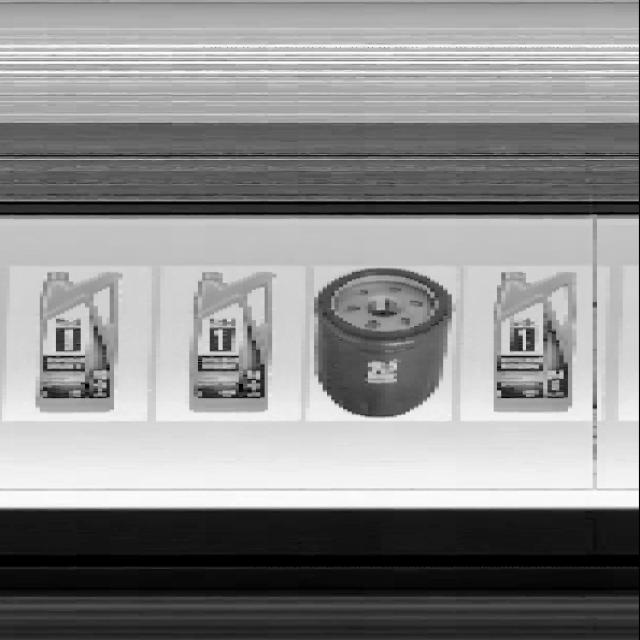motor_oil: (477, 262, 589, 419), (27, 264, 126, 420), (185, 264, 284, 418)
oil_filter: (310, 265, 454, 422)
